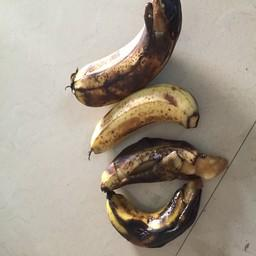Bad_banana: (61, 0, 224, 256)
